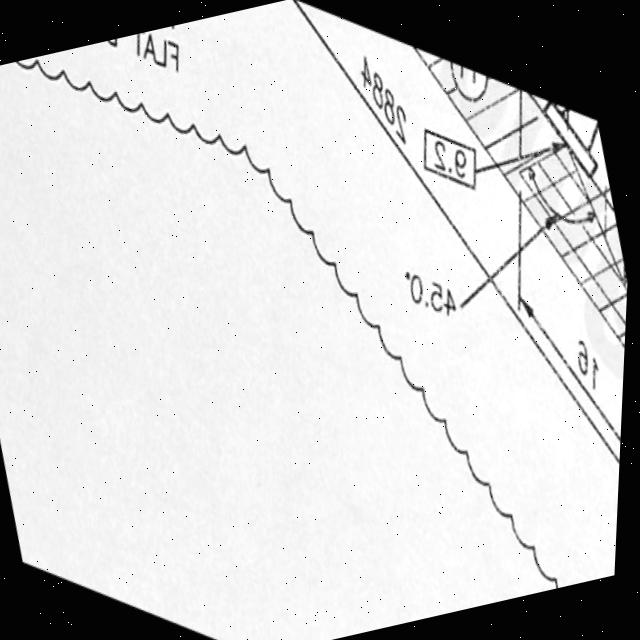Item number: (422, 123, 480, 198)
Measrement: (284, 0, 625, 478), (520, 248, 626, 455), (404, 205, 567, 327)
